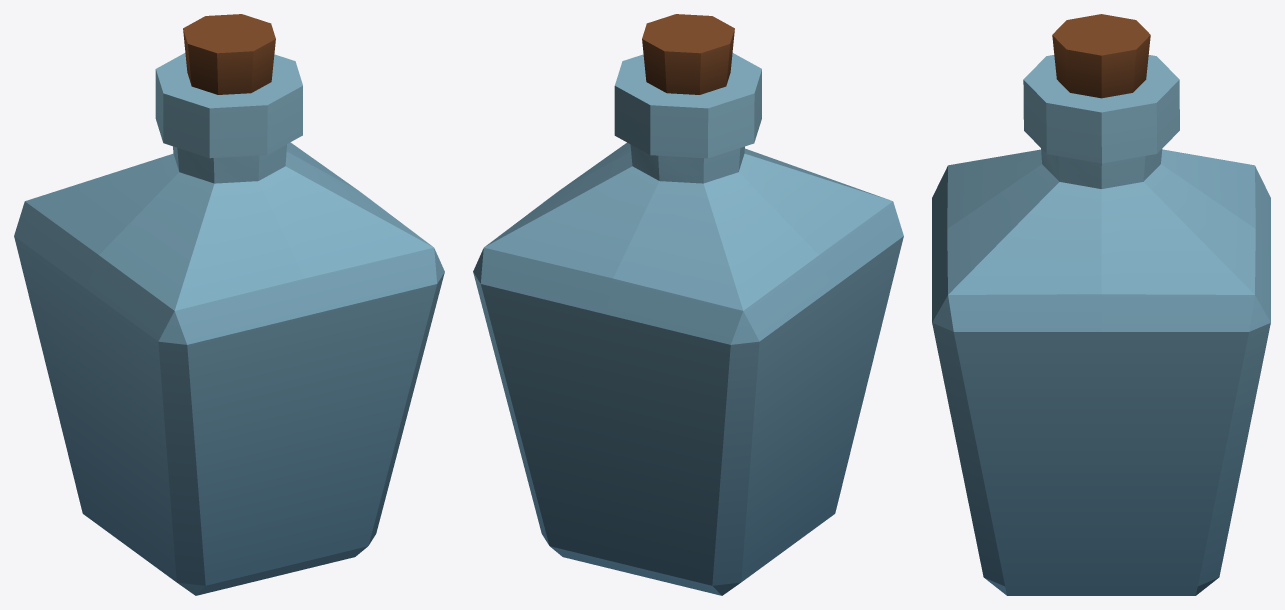
Rendered from mana_large.glb.
The picture shows the model from 3 angles, left to right: view 1: azimuth 30°, elevation 25°; view 2: azimuth 150°, elevation 25°; view 3: azimuth 270°, elevation 25°; orthographic projection. The views are drawn at different scales.
Visible parts, largest first — view 1: potion_014_blue; view 2: potion_014_blue; view 3: potion_014_blue.
Part boxes in pixels (bbox=[...]): potion_014_blue: bbox=[14, 14, 444, 595]; potion_014_blue: bbox=[473, 14, 903, 595]; potion_014_blue: bbox=[932, 14, 1270, 595].
Bounding box in the file's own units: 0.1291 × 0.2192 × 0.1291.
Materials: 1 (1 with a texture image).
